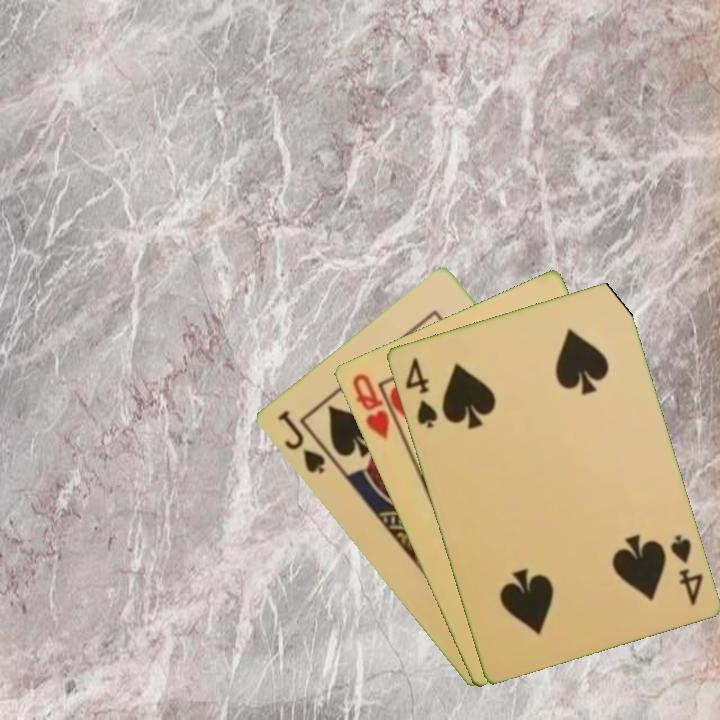4s: (666, 530, 706, 609), (401, 354, 440, 431)
Js: (273, 406, 328, 477)
Qh: (348, 369, 392, 443)
